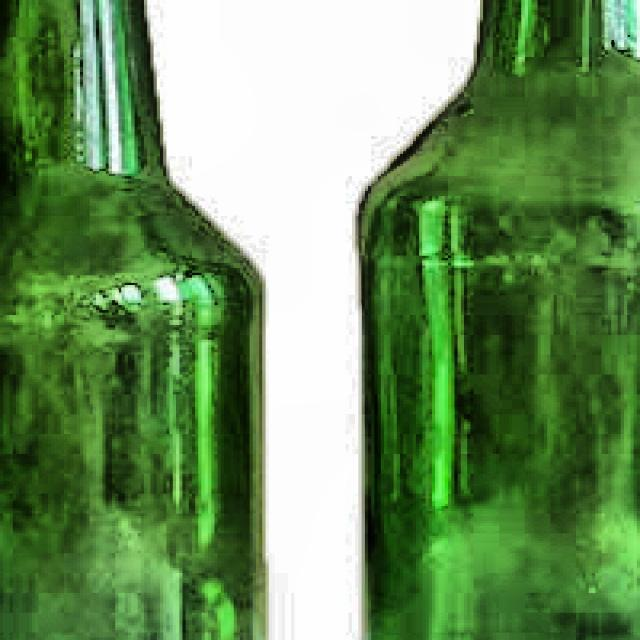glass: (347, 0, 640, 640)
